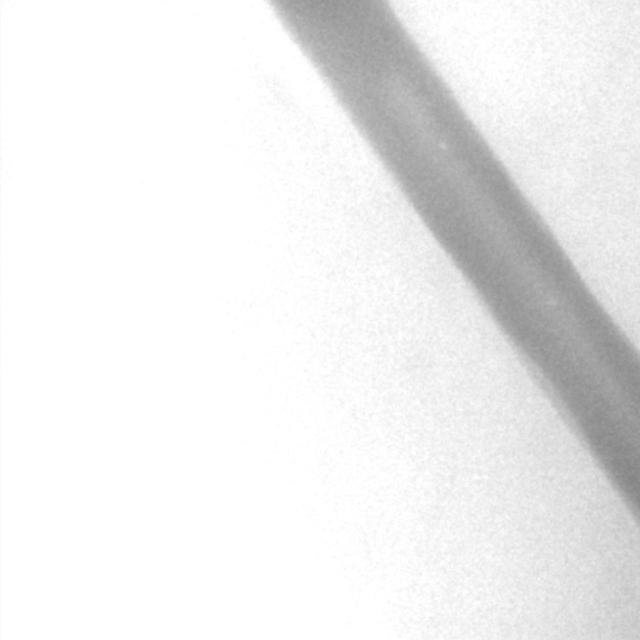air-hole: (438, 138, 448, 149)
